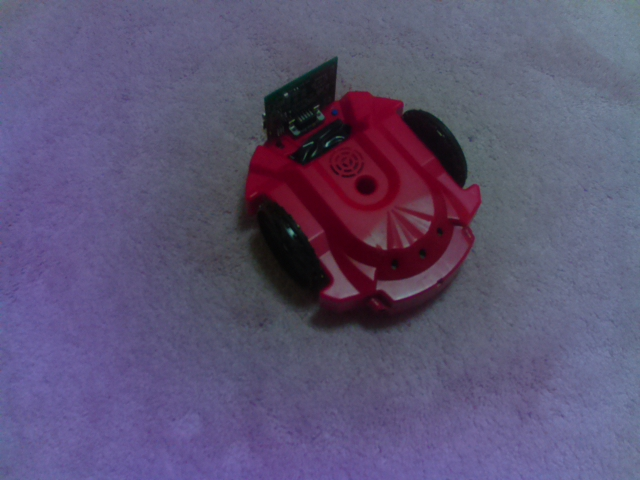chassis: (241, 52, 488, 320)
